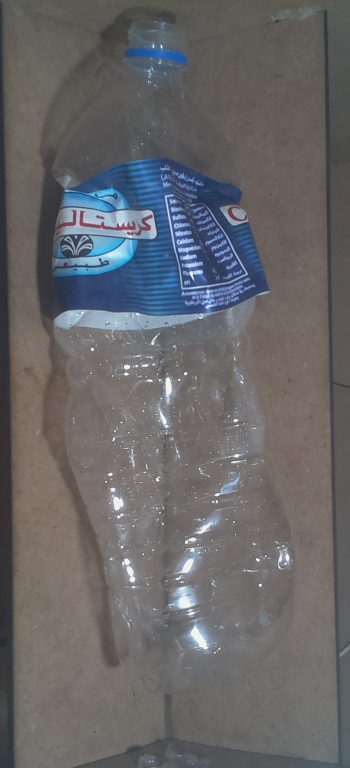Bouteille_2L: (42, 13, 309, 687)
